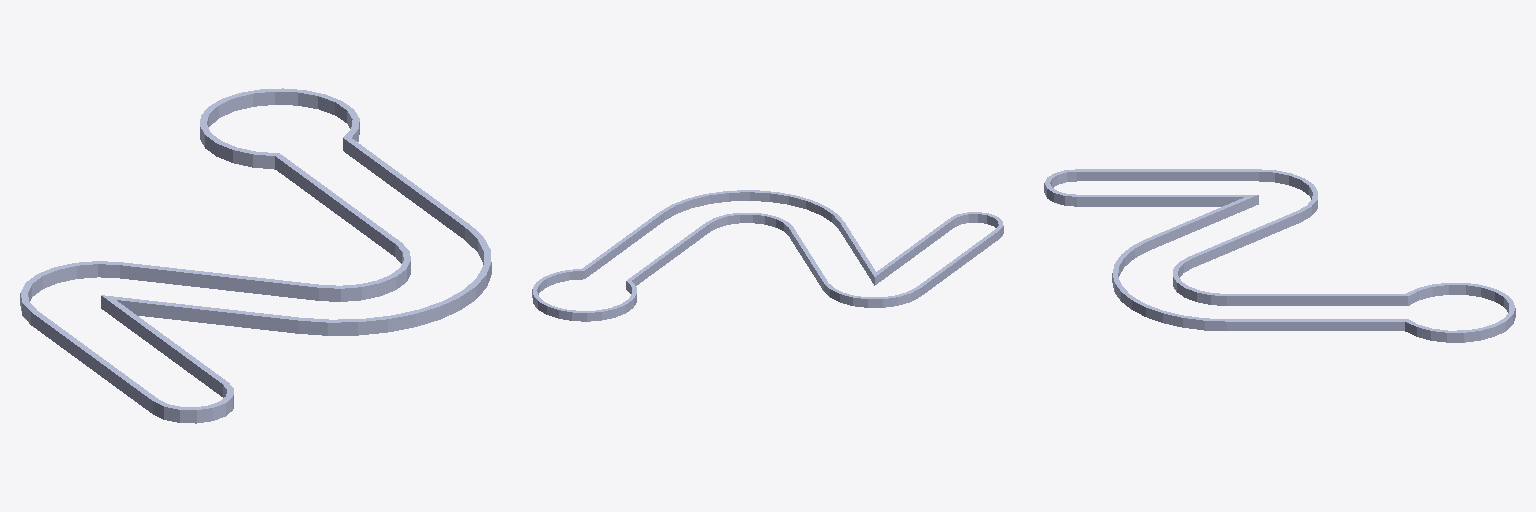
The robot description file, URDF, robot "track":
<?xml version="1.0" encoding="utf-8"?>
<!-- This URDF was automatically created by SolidWorks to URDF Exporter! Originally created by Stephen Brawner (brawner@gmail.com) 
     Commit Version: 1.6.0-4-g7f85cfe  Build Version: 1.6.7995.38578
     For more information, please see http://wiki.ros.org/sw_urdf_exporter -->
<robot
  name="track">
  <link
    name="base_link">
    <inertial>
      <origin
        xyz="0.90952 0.96422 0.03"
        rpy="0 0 0" />
      <mass
        value="19.117" />
      <inertia
        ixx="8.5616"
        ixy="-4.9429"
        ixz="1.3189E-16"
        iyy="9.9212"
        iyz="1.2296E-16"
        izz="18.471" />
    </inertial>
    <visual>
      <origin
        xyz="0 0 0"
        rpy="0 0 0" />
      <geometry>
        <mesh
          filename="package://track/meshes/base_link.STL" />
      </geometry>
      <collision>
        <mesh
          filename="package://track/meshes/base_link.STL" />
      </collision>
      <material
        name="">
        <color
          rgba="0.79216 0.81961 0.93333 1" />
      </material>
    </visual>
  </link>
</robot>

--- Facts derived from the render (not from the file) ---
The picture shows the robot from 3 angles, left to right: view 1: azimuth 30°, elevation 25°; view 2: azimuth 150°, elevation 25°; view 3: azimuth 270°, elevation 25°; orthographic projection.
Robot: track — 1 links, 0 joints (none); root link base_link; default pose: every joint at zero.
Visible links, largest first — view 1: base_link; view 2: base_link; view 3: base_link.
Boxes of the visible links, box(x1,y1,x2,y2) form: base_link: box(20, 88, 491, 423); base_link: box(532, 190, 1003, 321); base_link: box(1044, 169, 1515, 342).
Bounding box of the posed robot: 2.13 × 2.59 × 0.06 m (x, y, z).
1 mesh visuals loaded from 1 distinct referenced files (1 binary STL).
